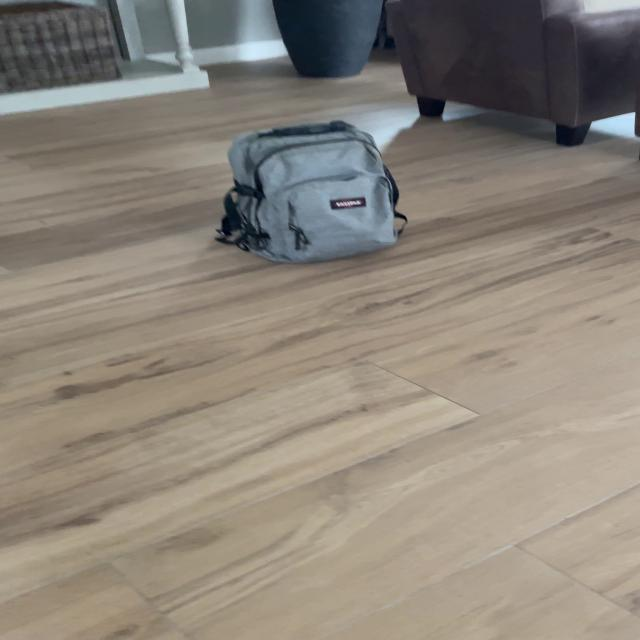backpack: (205, 114, 413, 272)
